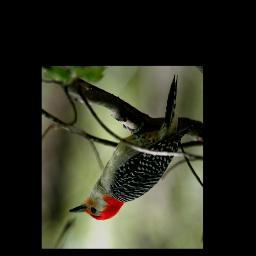Woodpecker: (69, 75, 191, 221)
